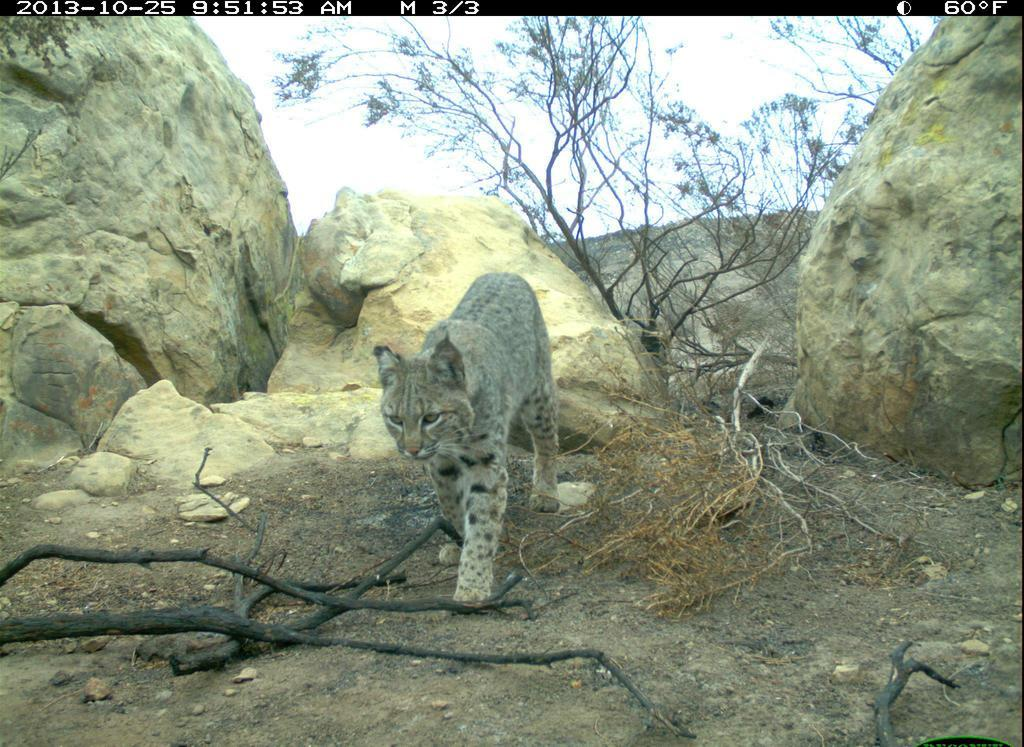bobcat: (356, 249, 587, 625)
